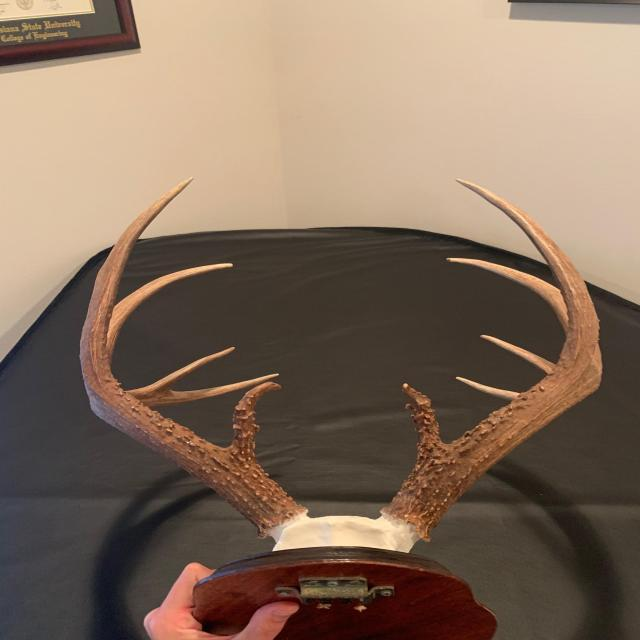L-G1: (225, 382, 283, 464)
L-G2: (79, 176, 194, 403)
R-G1: (401, 382, 452, 463)
R-G2: (455, 178, 600, 385)
